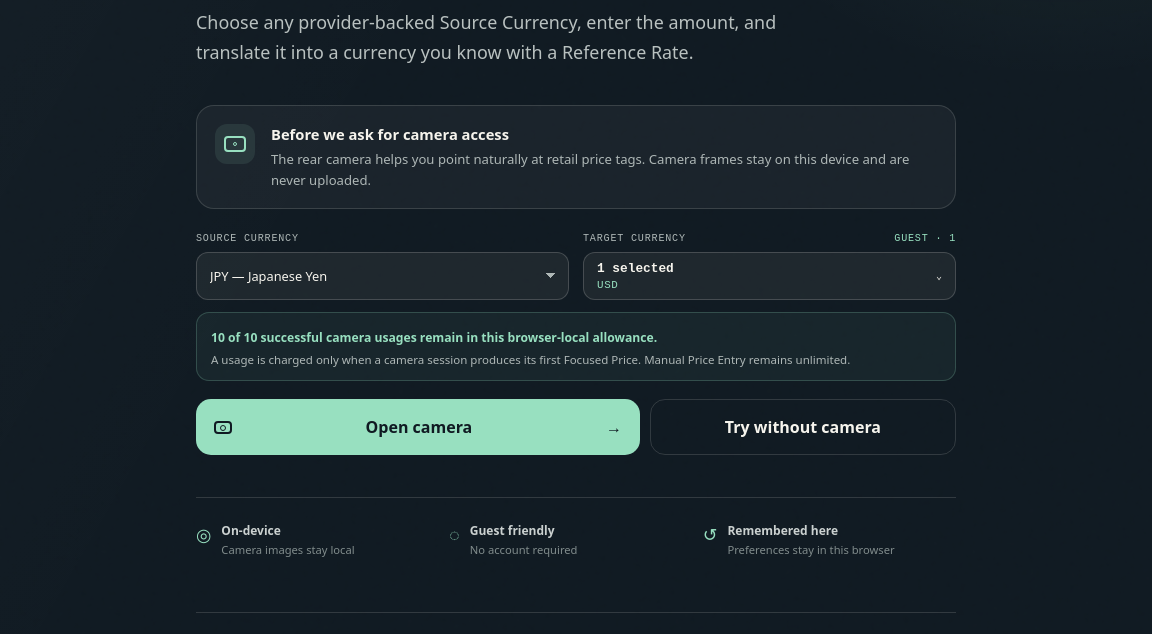
Test: Manual Price Entry journey › opens a manual-only currency without camera work and converts it
(page scrolled)
Select "BRL — Brazilian Real" in the dropdown labelled "Source Currency". click: (382, 276)
box: [196,252,569,300]
(page scrolled)
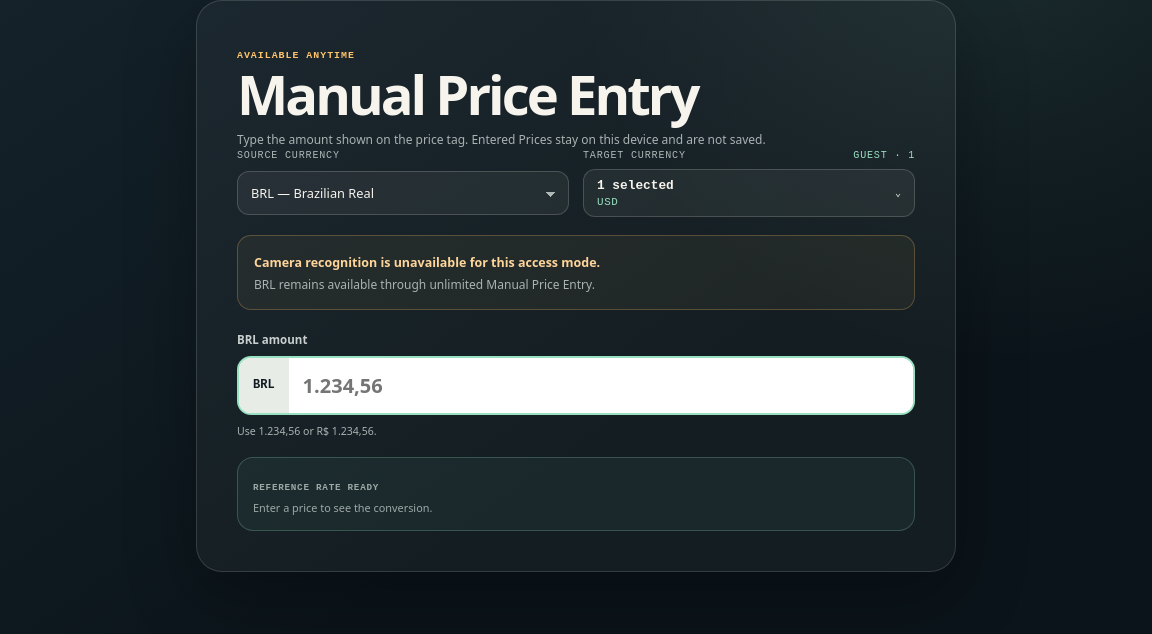
Check: the heading "Manual Price Entry" is shown, box [237,57,698,131]
Check: the text "Camera recognition is unavailable for this access mode." is shown, box [254,254,600,271]
Check: the text "Use 1.234,56 or R$ 1.234,56." is shown, box [237,424,376,438]
Type "R$ 12,34" into the field labelled "BRL amount". click: (601, 385)
box: [289,358,913,412]
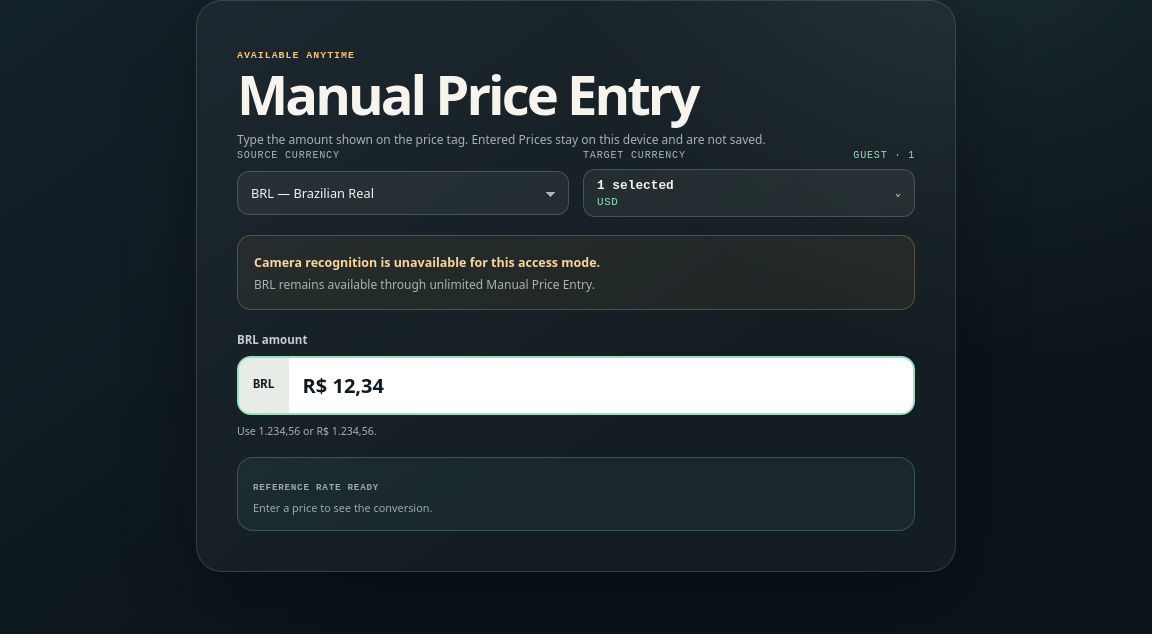
Submit the form "BRL amount BRL Use 1.234,56 or R$ 1.234,56.", box [237,332,915,442]
(page scrolled)
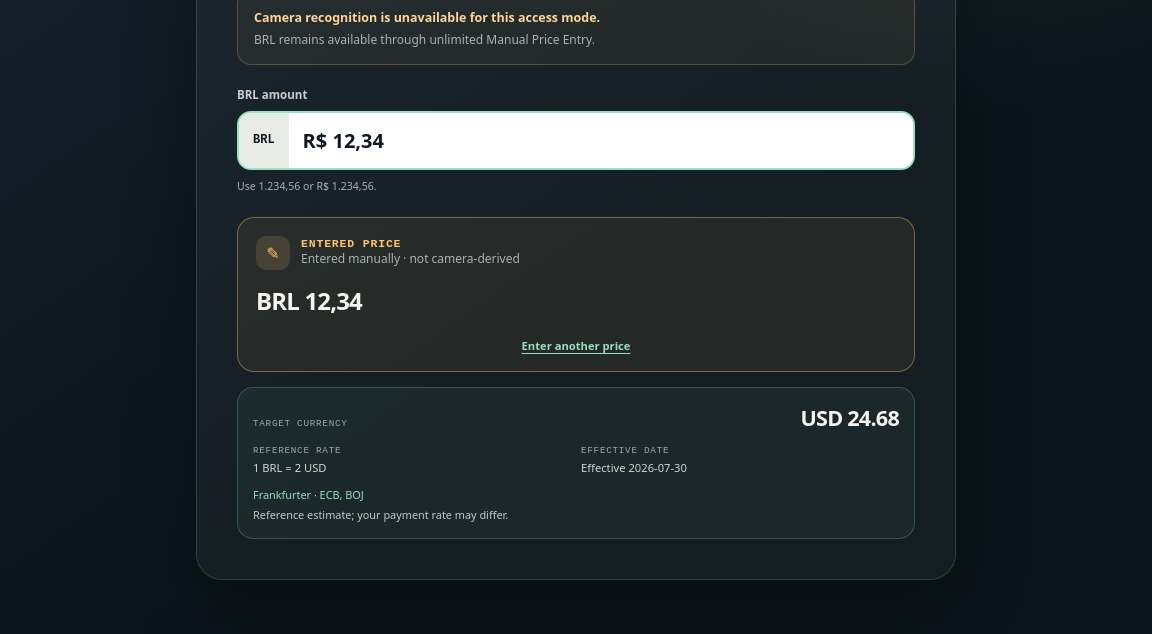
Check: the element "Entered Price" shows "Entered manually", box [301,250,520,267]
Check: the element "Entered Price" shows "BRL 12,34", box [237,216,915,372]
Check: the text "USD 24.68" is shown, box [800,402,899,432]
